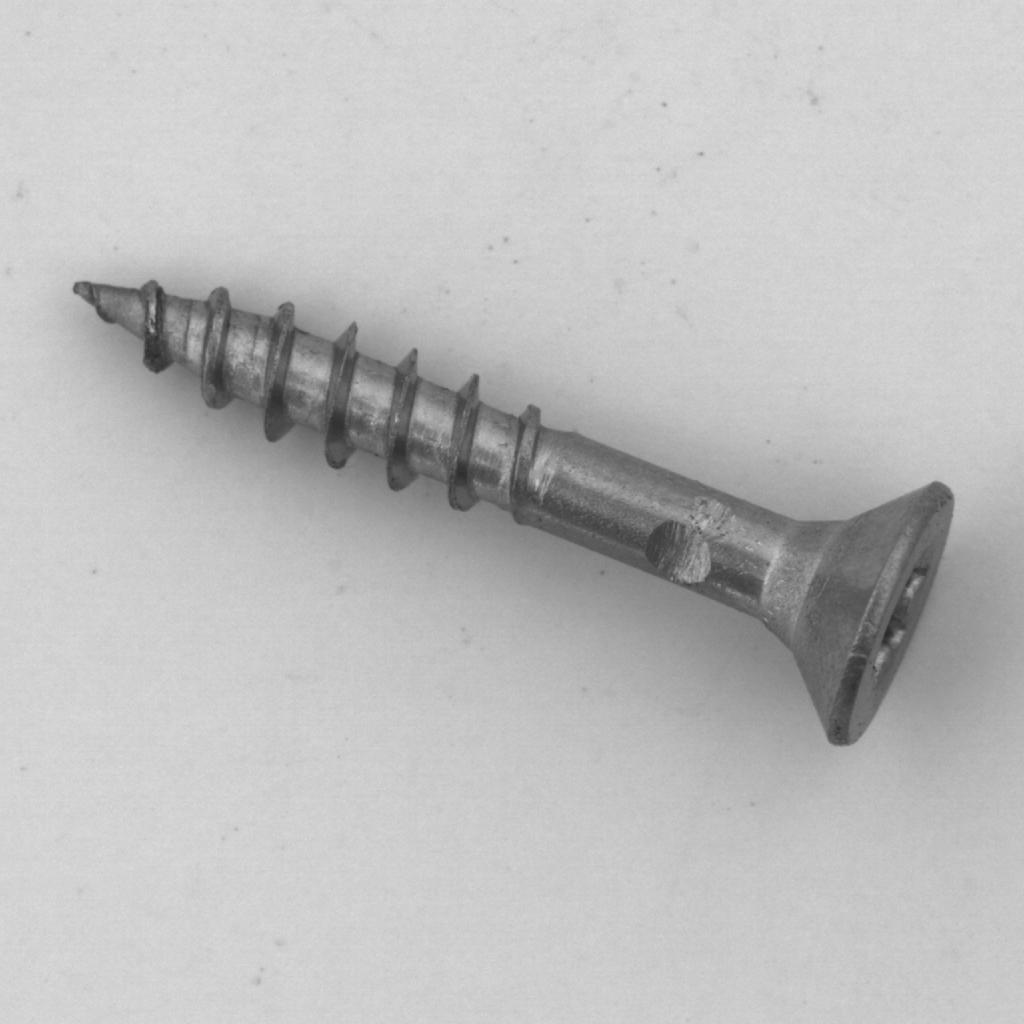bad: (43, 222, 966, 766)
